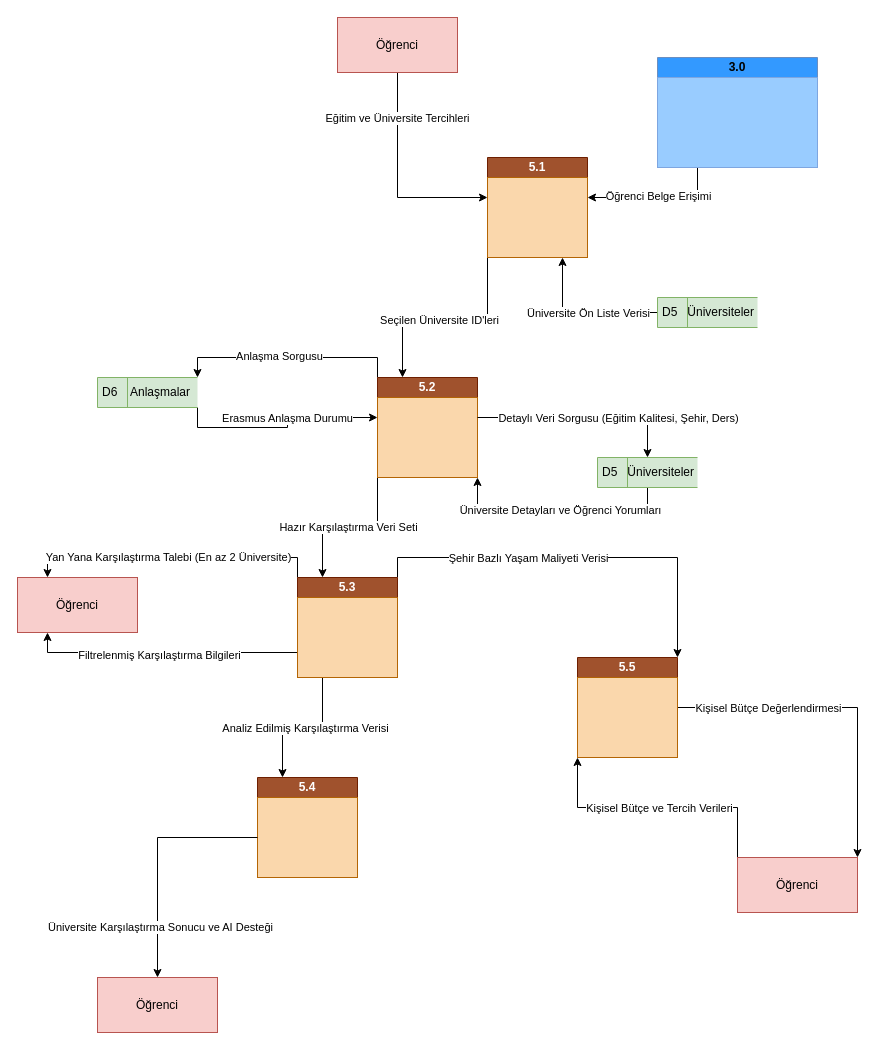
Image size: 883x1050. Some labels were removed from this diagram. The shapes that lost their labels are listed below. From the top down, each one's centre as x and y in pixels, then its label:
At (x=737, y=122): "Belge Yükleme ve Doğrulama".
At (x=537, y=217): "Üniversite Arama ve Filtreleme".
At (x=427, y=437): "Kriter ve Detaylı Veri Toplama".
At (x=347, y=637): "Çok Kriterli Karşılaştırma Motoru".
At (x=627, y=717): "Kişisel Bütçe Analizi ve Değerlendirme Akışları".
At (x=307, y=837): "AI Destekli Karar Destek Sistemi".
